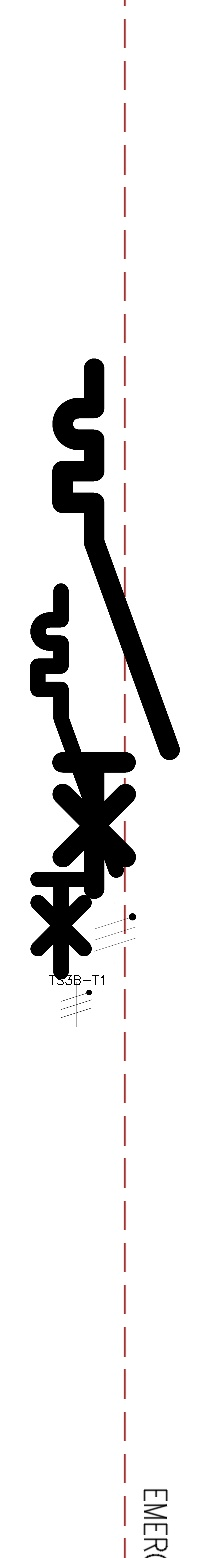interruptor_termomagnetico: (49, 355, 183, 902), (28, 581, 126, 982)
